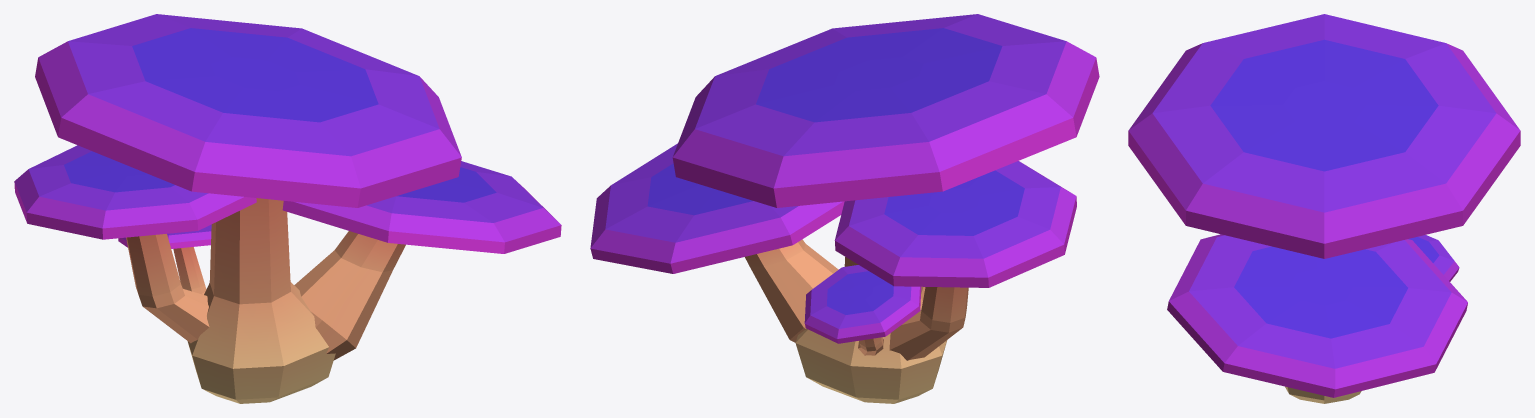
File: Garden_BigShroom01.fbx
3 renders of one model, left to right at view 1: azimuth 30°, elevation 25°; view 2: azimuth 150°, elevation 25°; view 3: azimuth 270°, elevation 25°, orthographic. The views are drawn at different scales.
Parts seen in each view (by area): view 1: Cylinder.298; view 2: Cylinder.298; view 3: Cylinder.298.
Boxes of the visible parts, box(x1,y1,x2,y2) form: Cylinder.298: box(14, 14, 561, 403); Cylinder.298: box(590, 14, 1099, 403); Cylinder.298: box(1128, 14, 1520, 403).
Size of the model in its own units: 551 by 364 by 438.
